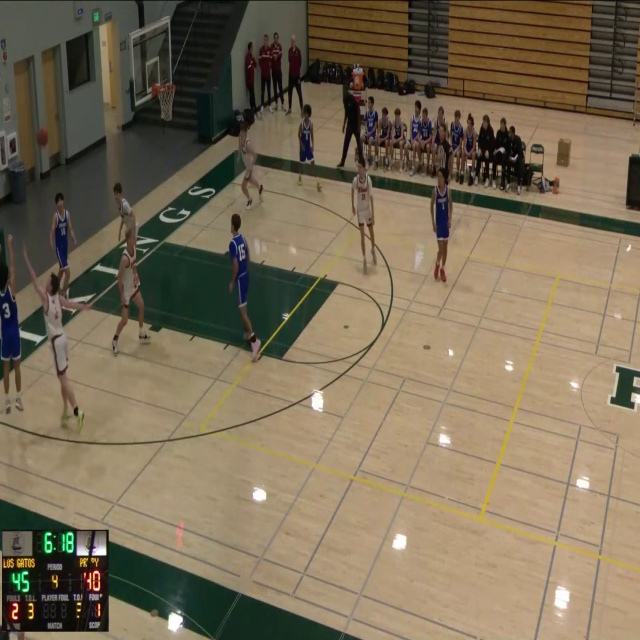Basketball: (37, 128, 48, 146)
